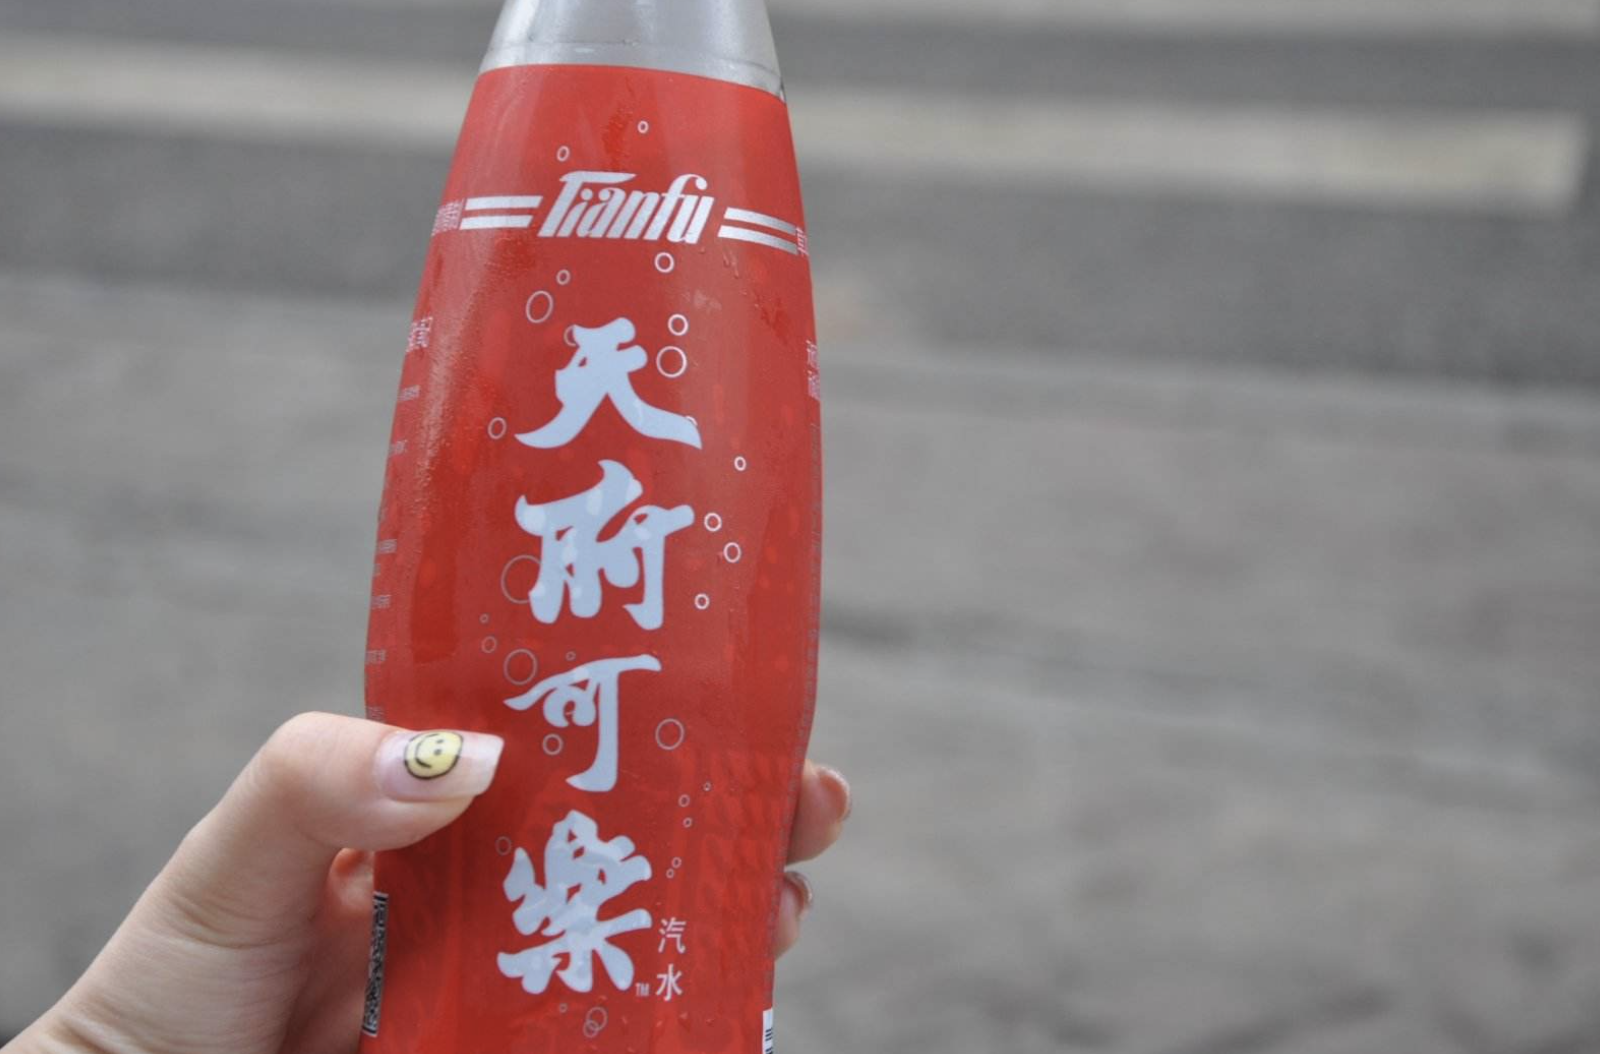天府可乐: (347, 15, 844, 1030)
